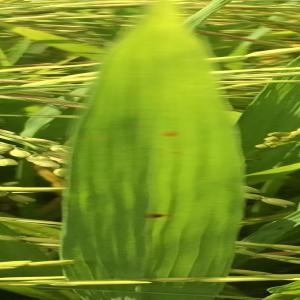Brown_Spot: (142, 205, 169, 224), (157, 124, 180, 142)
